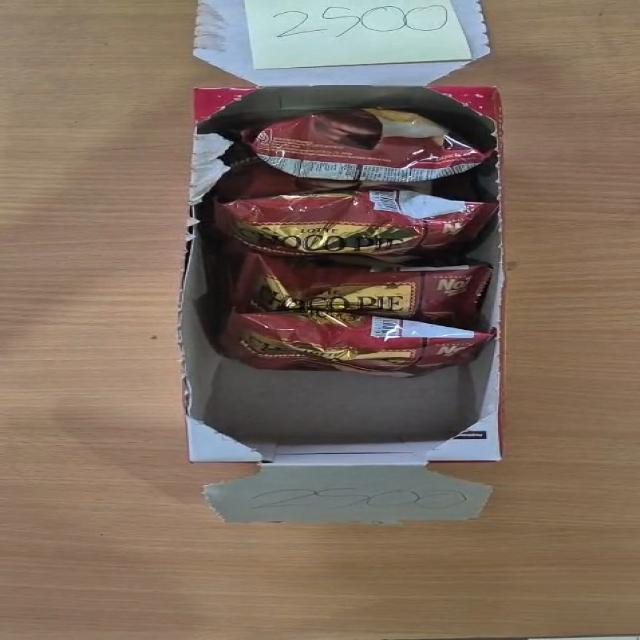Chocopie: (210, 189, 500, 264), (228, 252, 492, 329), (216, 306, 497, 378), (241, 106, 494, 183)
